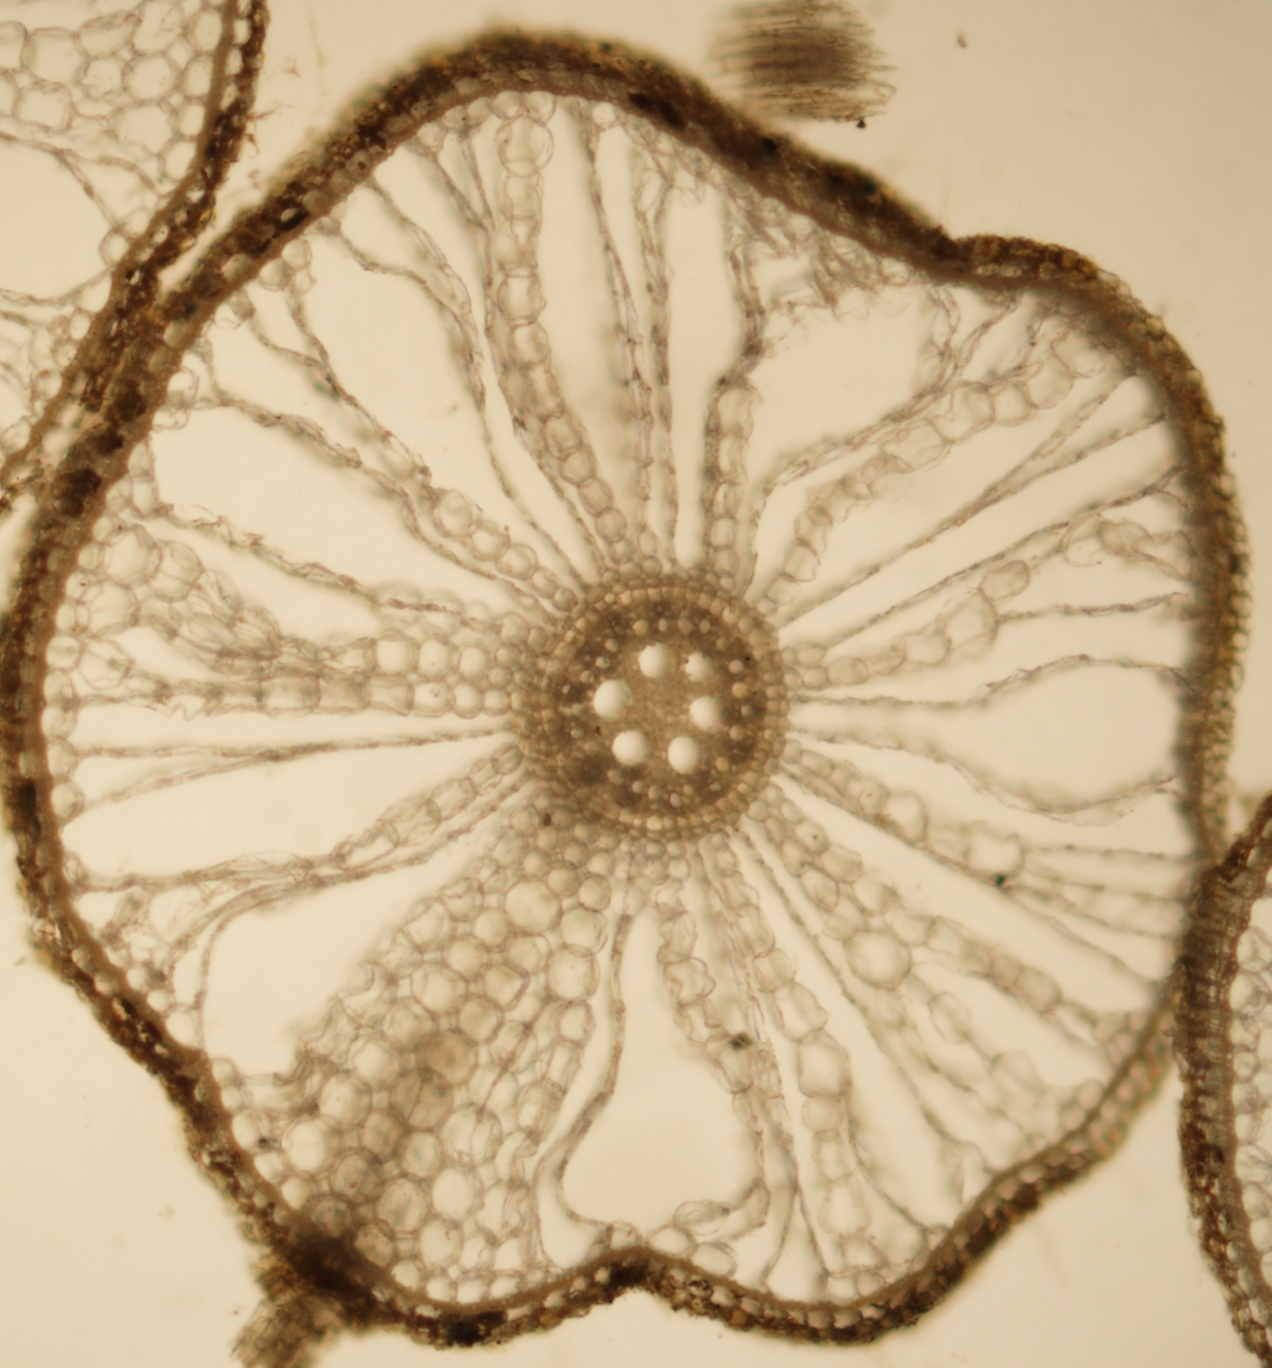lm: (594, 679, 632, 720), (638, 642, 677, 679), (612, 729, 650, 767), (690, 694, 724, 733), (667, 735, 701, 775), (685, 652, 716, 682)
